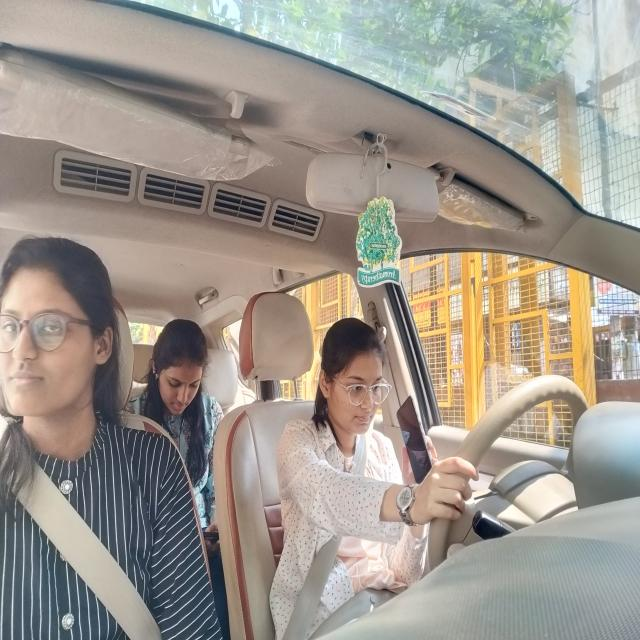mobile: (392, 397, 435, 488)
person: (0, 236, 131, 432), (314, 316, 392, 441), (146, 316, 210, 420)
